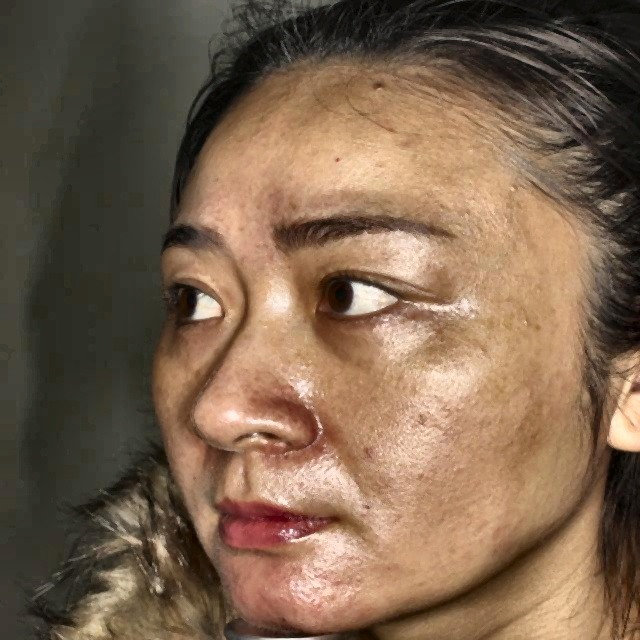comedone: (231, 578, 246, 598)
